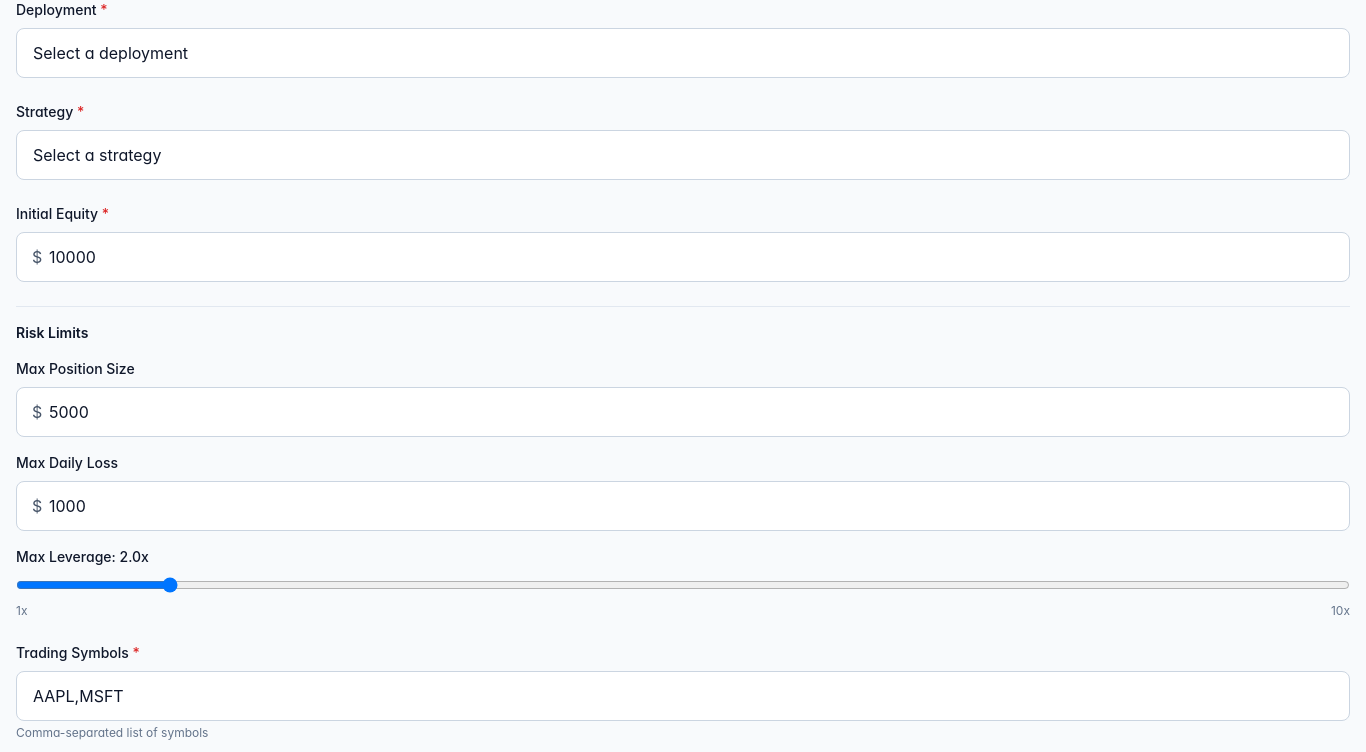
PaperTradingForm › should enable submit button when all required fields are set
Select deployment
Click the button with aria-label "select deployment": (111, 53) [16,28,1350,78]
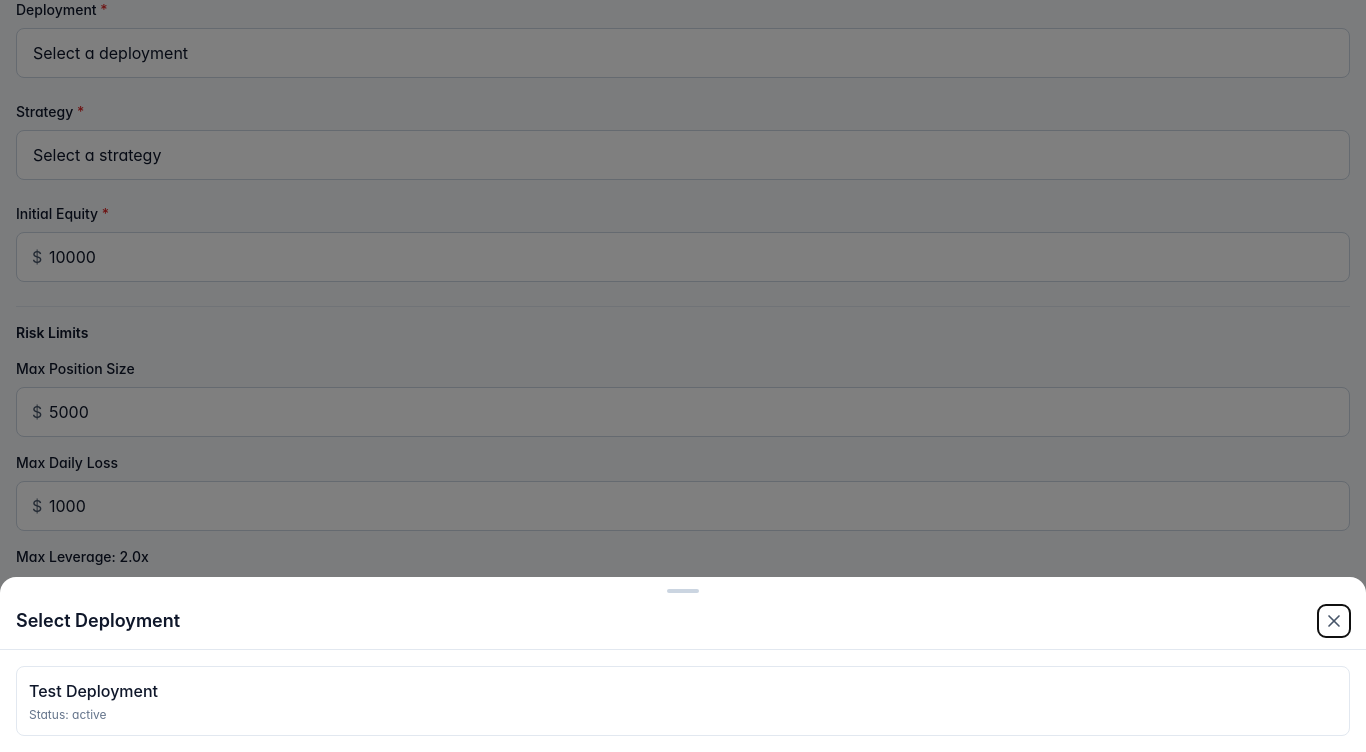
Click the text "Test Deployment": (94, 691) [29,681,158,701]
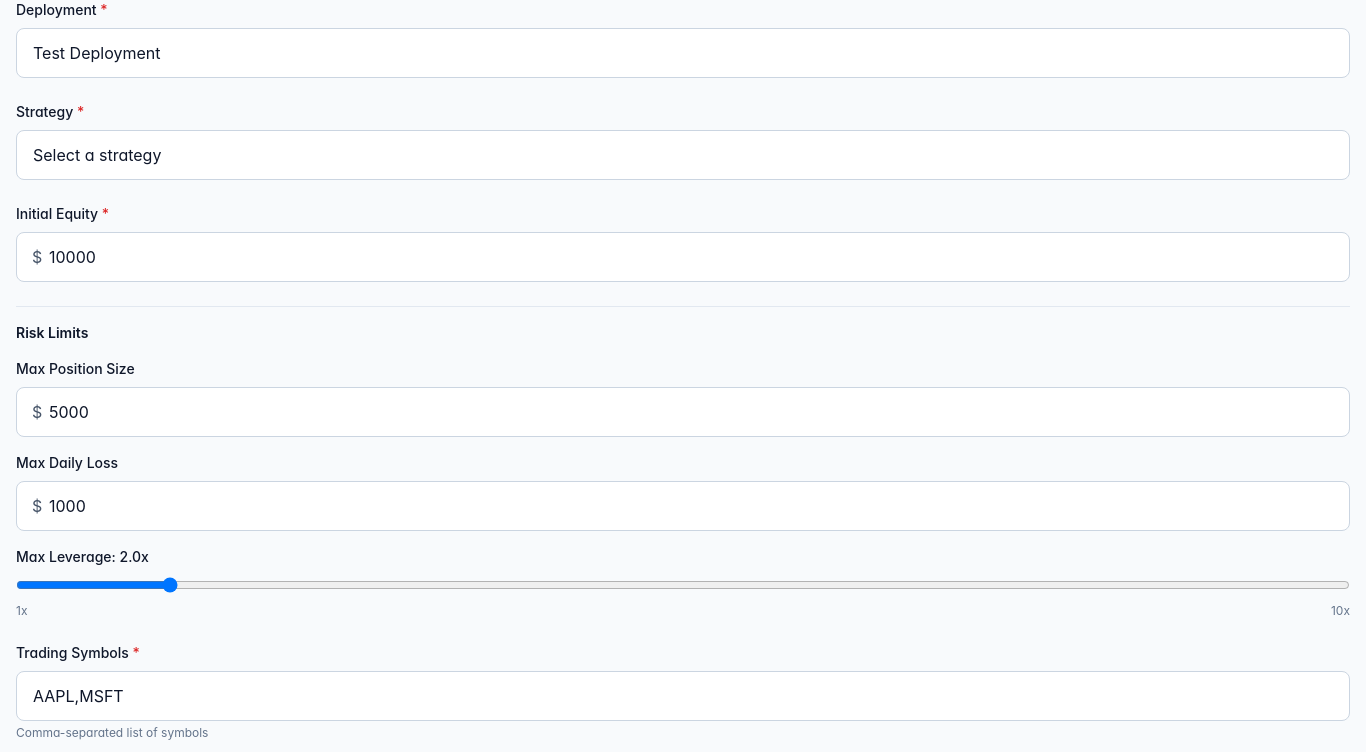
Select strategy
Click the button with aria-label "select strategy": (97, 155) [16,130,1350,180]
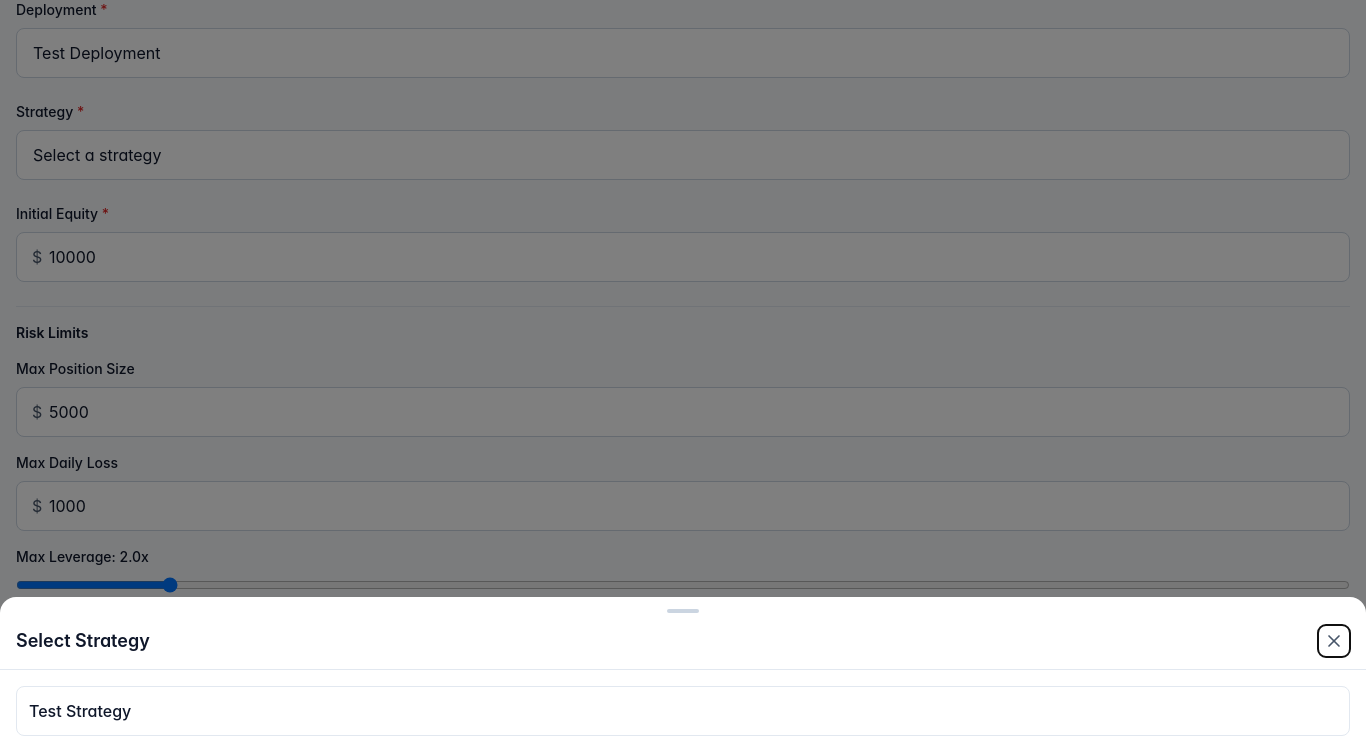
Click the button "Test Strategy": (80, 711) [16,686,1350,736]
(page scrolled)
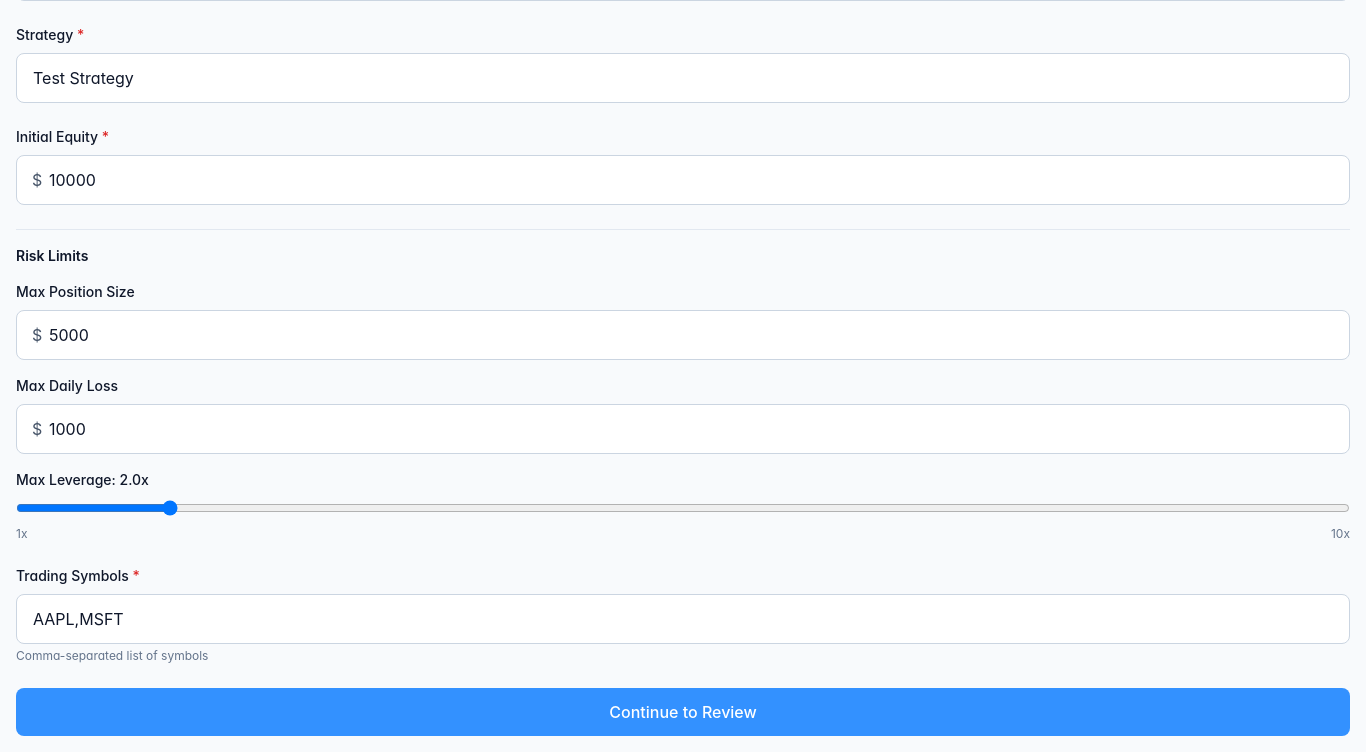
Now the button "Continue to Review" is enabled, box [16,688,1350,736]
